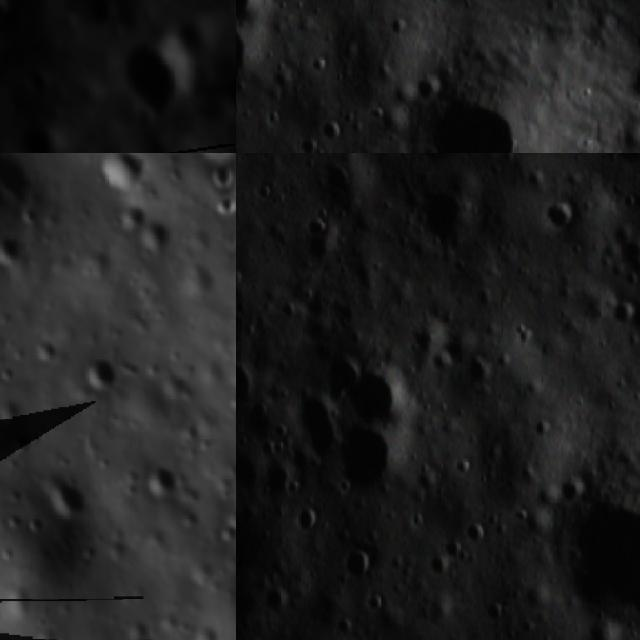crater: (554, 484, 640, 607), (410, 82, 533, 153), (109, 22, 195, 122), (333, 423, 405, 502), (26, 458, 101, 533), (410, 177, 478, 254), (342, 362, 408, 432), (86, 153, 152, 204), (71, 352, 127, 398), (12, 107, 65, 153), (139, 459, 180, 508), (236, 21, 261, 99), (251, 457, 297, 497), (0, 225, 32, 279), (314, 161, 354, 201), (536, 196, 578, 234), (135, 216, 173, 257), (457, 354, 495, 391), (338, 546, 372, 586), (261, 584, 296, 620), (604, 290, 636, 327), (117, 203, 150, 236), (293, 504, 321, 540), (619, 56, 640, 103), (0, 0, 26, 37), (597, 153, 640, 175), (438, 535, 467, 567), (236, 358, 254, 409), (313, 119, 344, 148), (457, 521, 488, 550), (32, 336, 59, 369), (424, 550, 450, 583), (358, 590, 388, 617), (183, 153, 221, 172), (294, 132, 323, 153), (207, 164, 226, 195), (212, 194, 230, 223)
